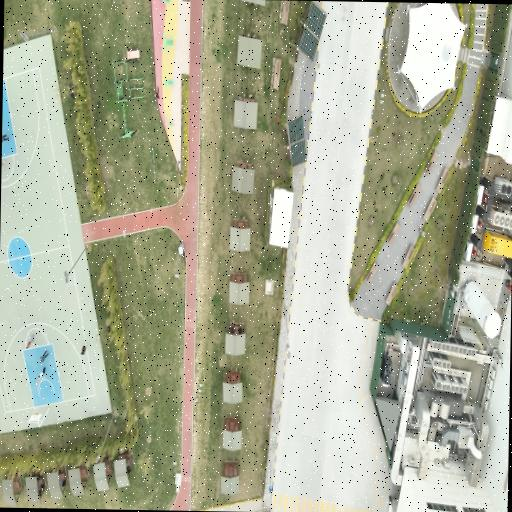person: (25, 334, 33, 348), (37, 366, 44, 381), (39, 350, 47, 362), (80, 344, 85, 354), (154, 87, 158, 99), (2, 134, 8, 142), (106, 326, 111, 334), (40, 482, 43, 492), (36, 473, 40, 480)
